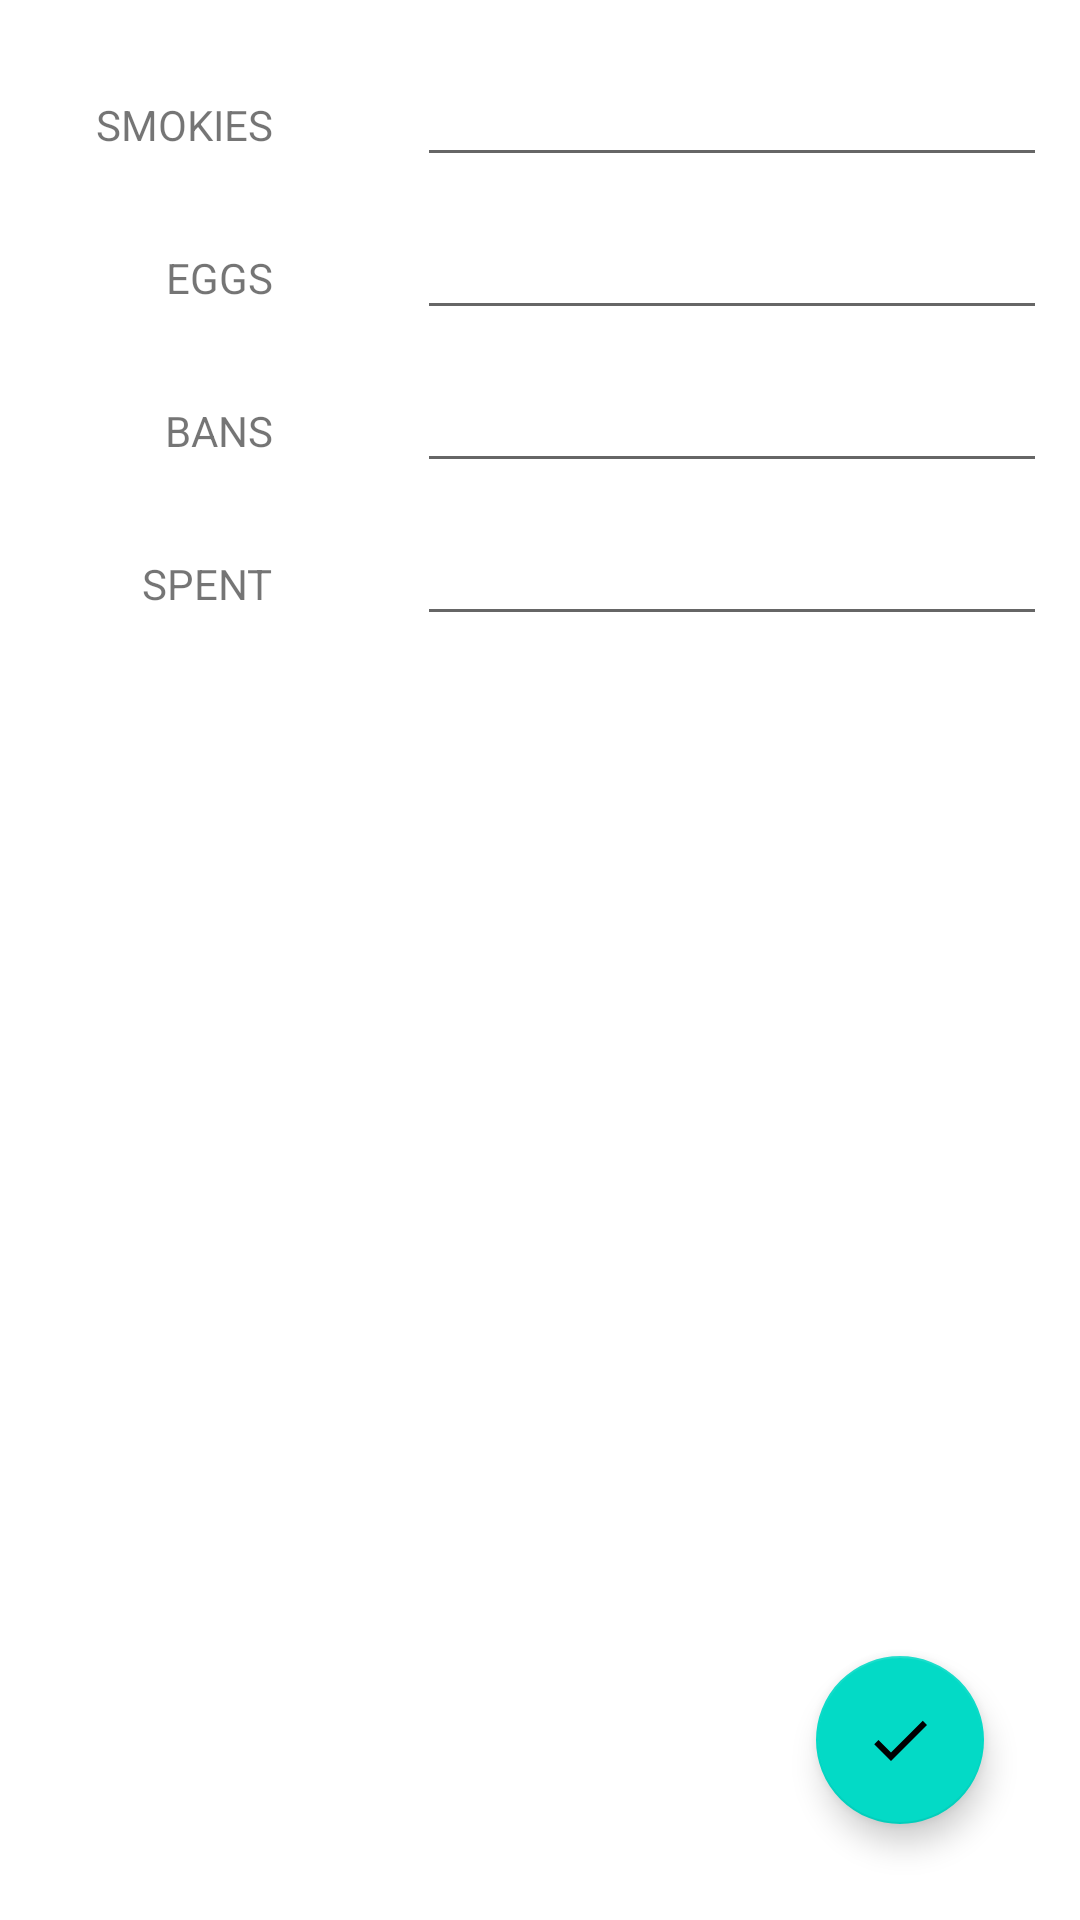

Where to tap for icons on this 1080*1920 app screen, as (x,y):
check: (900,1740)
